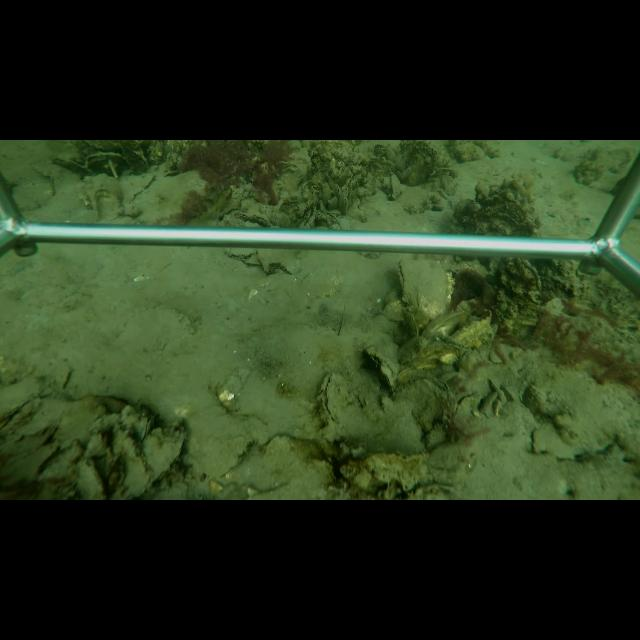Oyster-Closed: (114, 424, 189, 498), (395, 257, 457, 321), (315, 372, 350, 427), (366, 349, 398, 398), (450, 390, 479, 436), (117, 174, 157, 206), (134, 415, 153, 442), (386, 172, 402, 200), (338, 191, 349, 216), (333, 182, 342, 198)
Oyster-Open: (84, 151, 130, 177), (124, 149, 149, 169)
